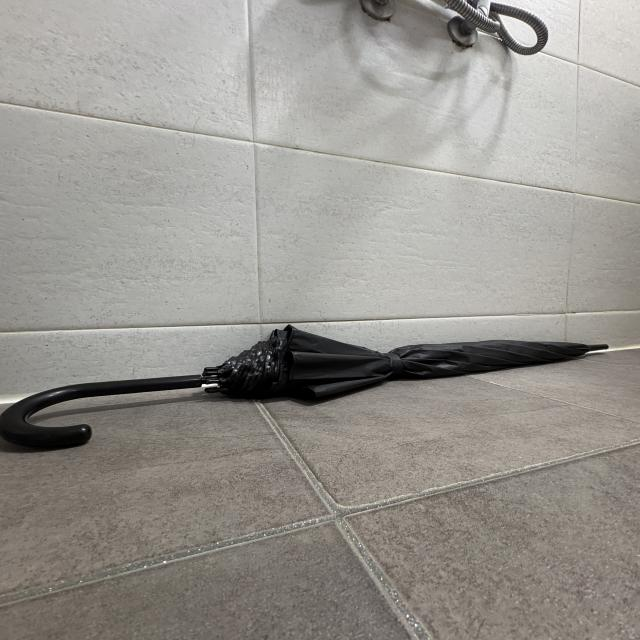umbrella: (2, 322, 608, 449)
